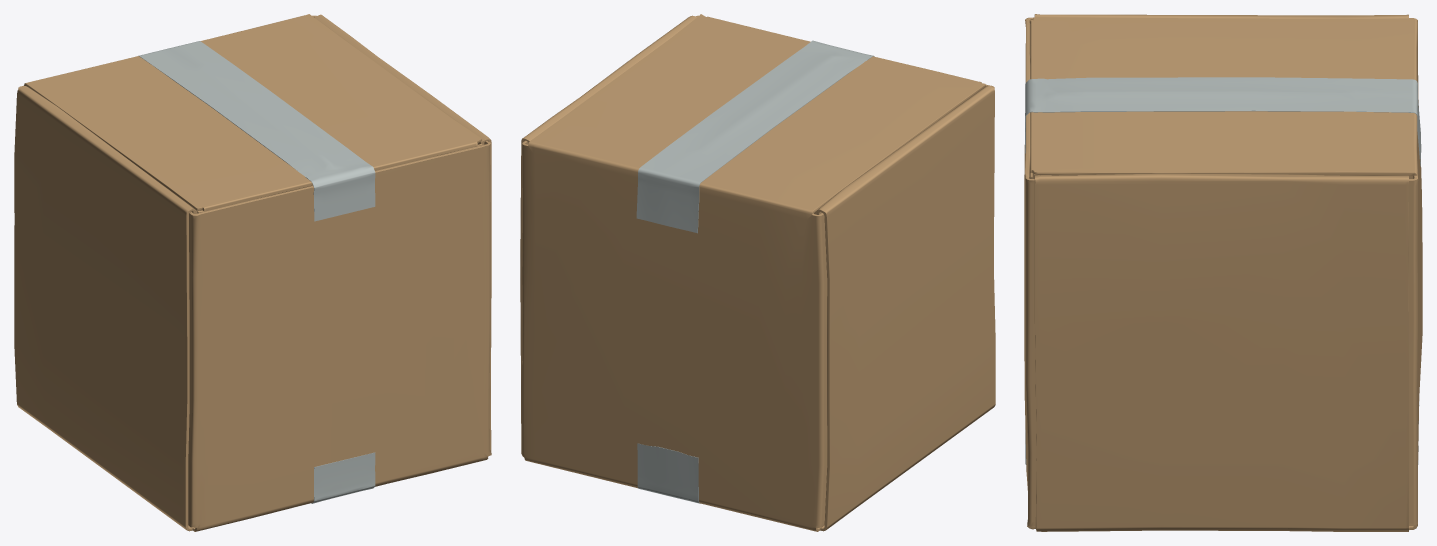
3 renders of one model, left to right at view 1: azimuth 30°, elevation 25°; view 2: azimuth 150°, elevation 25°; view 3: azimuth 270°, elevation 25°, orthographic. The views are drawn at different scales.
Bounding box in the file's own units: 0.1057 × 0.1052 × 0.1052.
